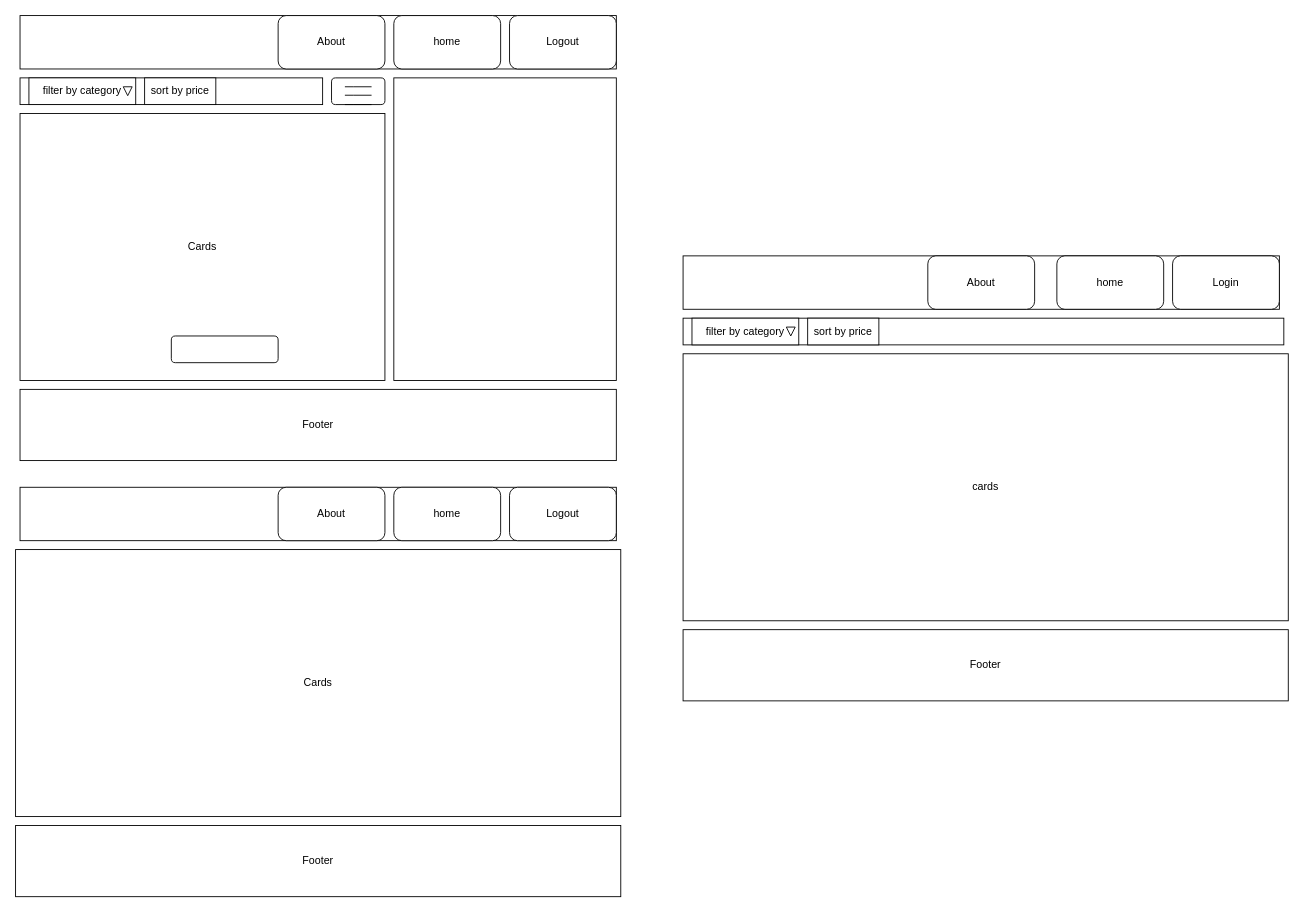
The diagram is 1304 pixels wide and 912 high, and some of its shapes have lost their labels. The centre of each missing label's shape, as x and y in pixels:
"Form" belongs at [504,228].
"Load More ..." belongs at [224,349].
